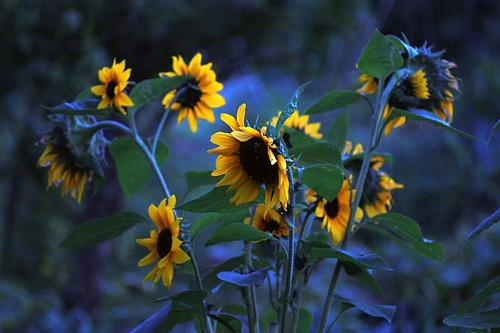sunflower: (209, 101, 296, 217), (138, 193, 191, 284), (158, 53, 224, 126), (298, 157, 354, 243), (31, 121, 90, 197), (94, 58, 135, 111)
